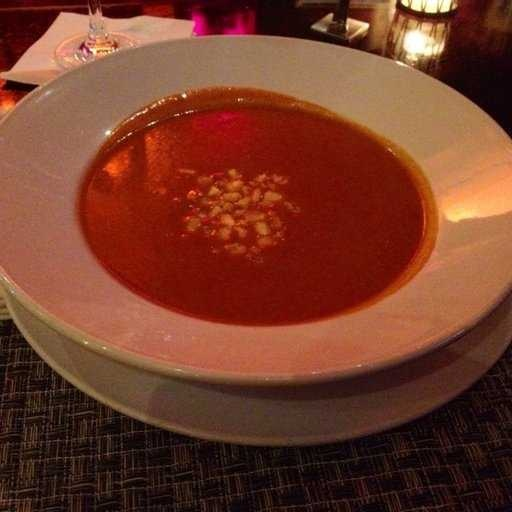soup: (76, 57, 455, 299)
